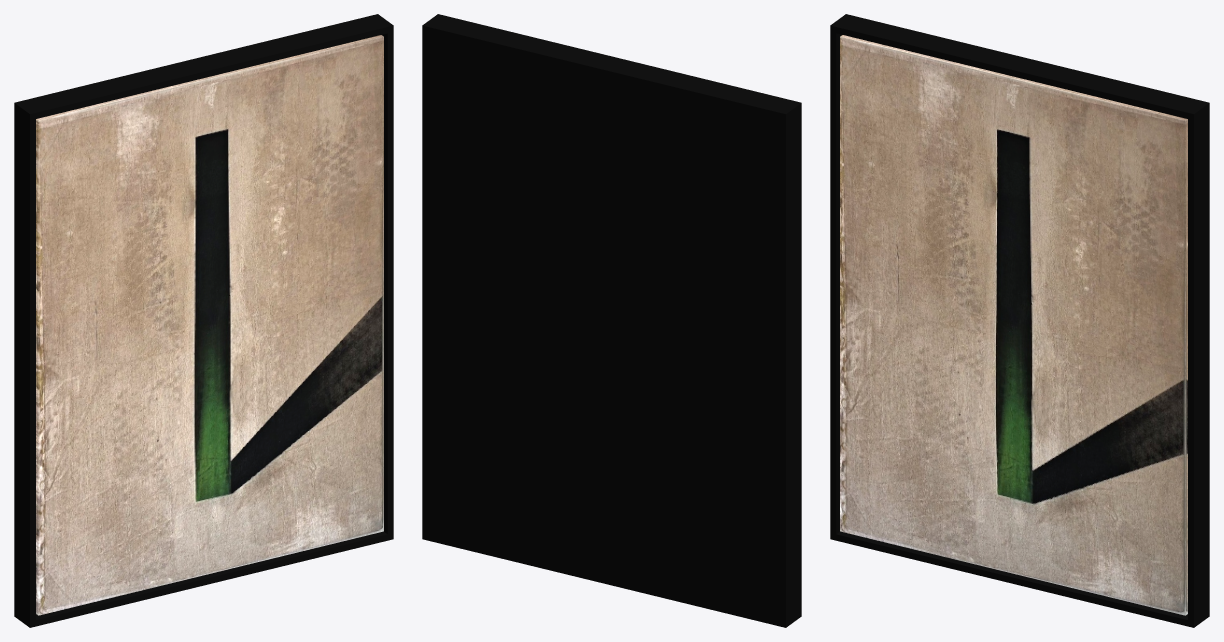
Rendered from monolith-black.glb.
3 renders of one model, left to right at view 1: azimuth 30°, elevation 25°; view 2: azimuth 150°, elevation 25°; view 3: azimuth 330°, elevation 25°, orthographic.
Parts seen in each view (by area): view 1: painting; view 2: painting; view 3: painting.
Part boxes in pixels (x1=…): painting: x1=14, y1=14, x2=393, y2=627; painting: x1=422, y1=14, x2=801, y2=627; painting: x1=830, y1=14, x2=1209, y2=627.
Bounding box in the file's own units: 0.6 × 0.81 × 0.045.
Materials: 7 (5 with a texture image).
